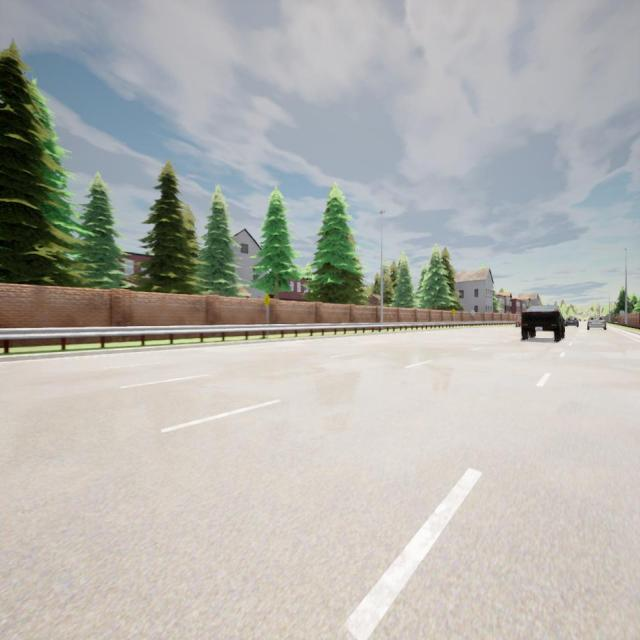Traffic_Signs: (619, 311, 624, 316)
Vehicle: (521, 304, 565, 342), (587, 316, 607, 330), (564, 316, 579, 328), (516, 317, 522, 328)
